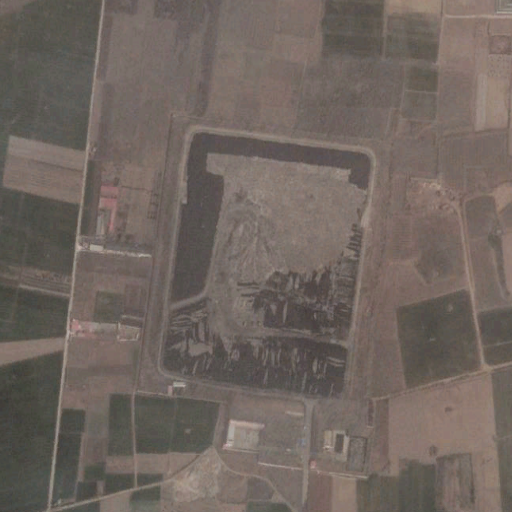lf: (158, 128, 378, 402)
